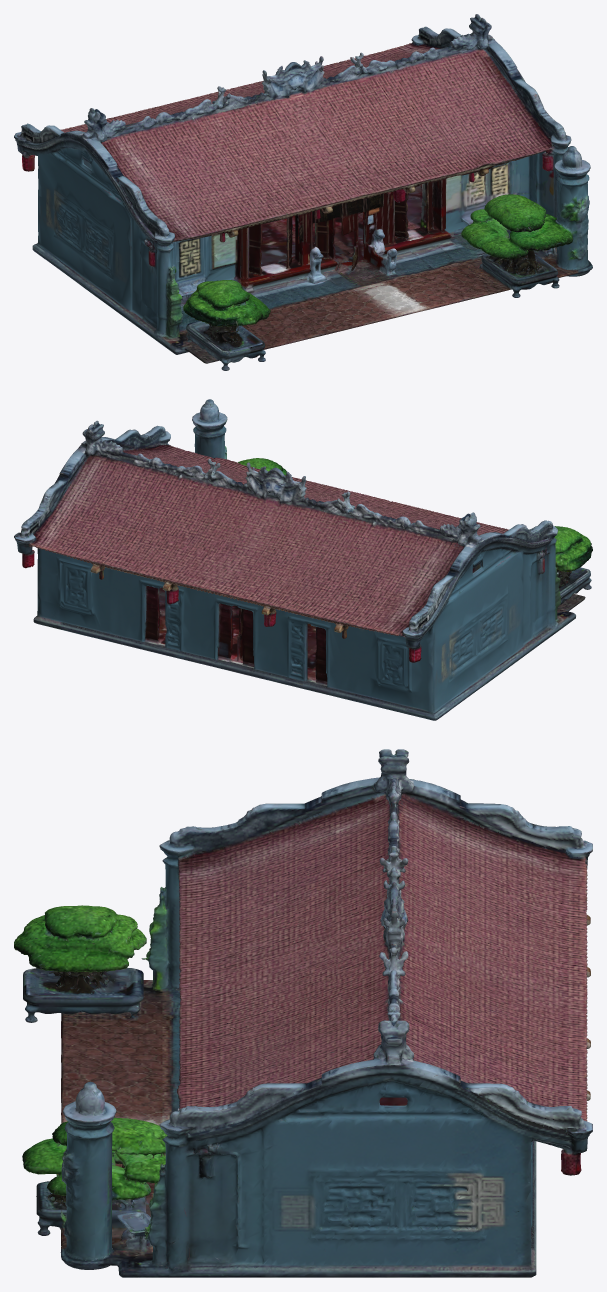
The model's file is dennghe.glb.
3 views of the same model, one above another, from view 1: azimuth 30°, elevation 25°; view 2: azimuth 150°, elevation 25°; view 3: azimuth 270°, elevation 25° (orthographic). The views are drawn at different scales.
Parts seen in each view (by area): view 1: Mesh_0; view 2: Mesh_0; view 3: Mesh_0.
Boxes of the visible parts, x1=… form: Mesh_0: x1=14, y1=14, x2=592, y2=370; Mesh_0: x1=14, y1=399, x2=592, y2=720; Mesh_0: x1=14, y1=749, x2=592, y2=1277.
Size of the model in its own units: 1.91 by 0.7585 by 1.6.
1 material, 1 textured.
